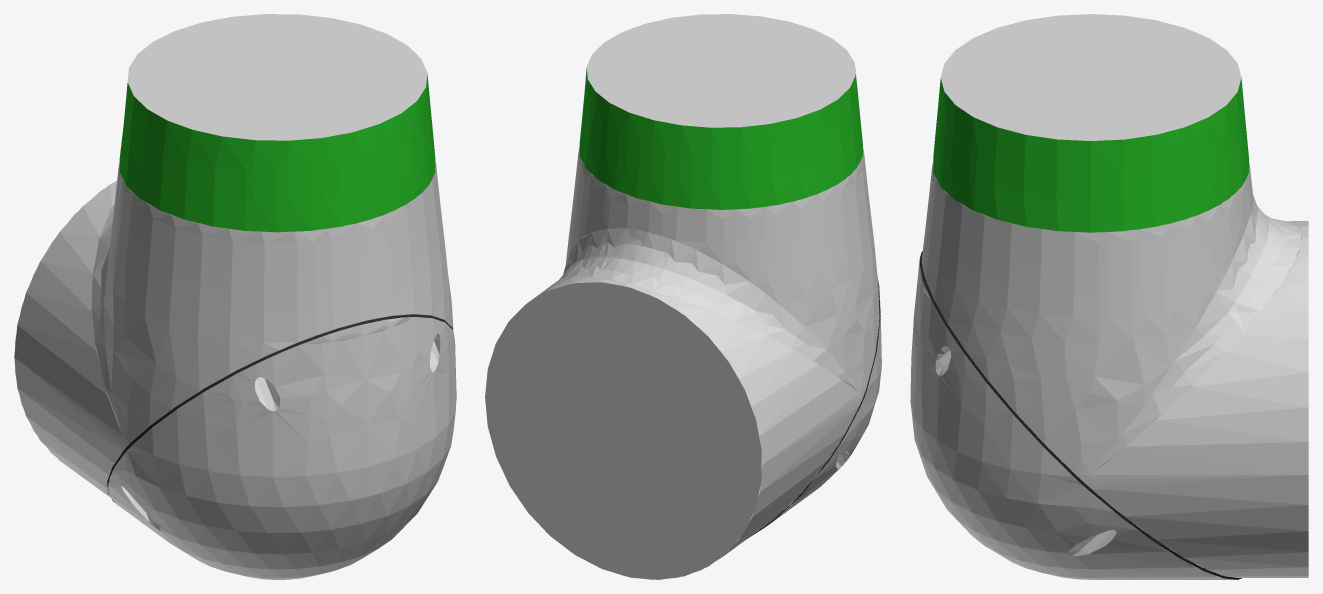
3 renders of one model, left to right at view 1: azimuth 30°, elevation 25°; view 2: azimuth 150°, elevation 25°; view 3: azimuth 270°, elevation 25°, orthographic. The views are drawn at different scales.
Visible parts, largest first — view 1: node; view 2: node; view 3: node.
Part boxes in pixels (x1,y1,x2,y2): node: (14, 14, 456, 579); node: (485, 14, 881, 579); node: (910, 14, 1308, 579).
Bounding box in the file's own units: 184 × 276 × 205.
